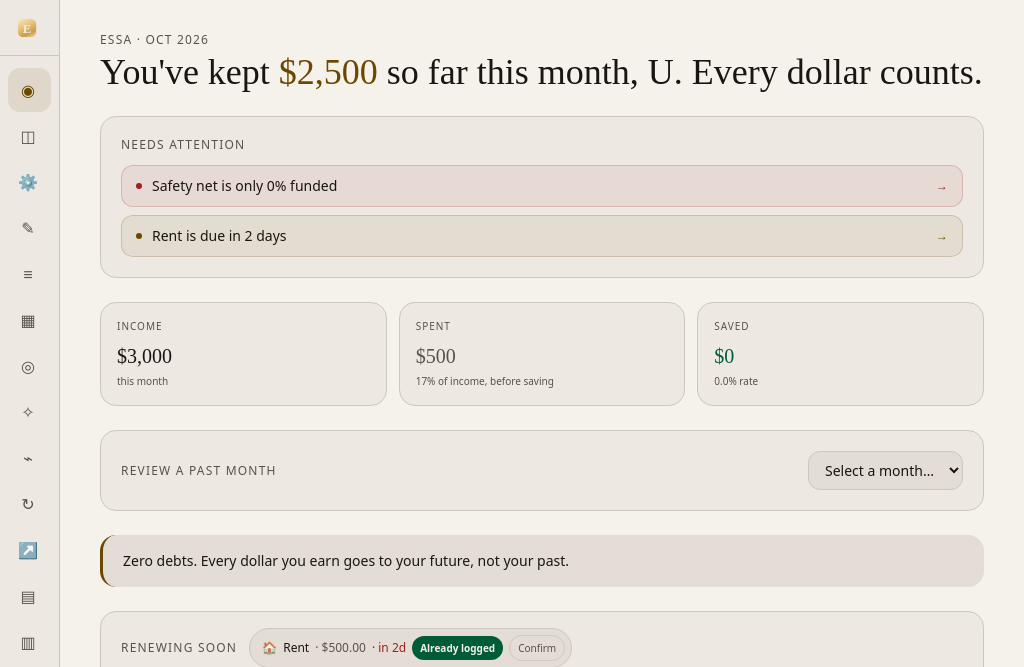
Test: Overview: a Renewing soon chip's Already logged links the row logged by hand
Check: the text "Renewing soon" is shown, box [121,640,237,656]
Click the button "Already logged" at (458, 648), box [412,636,503,660]
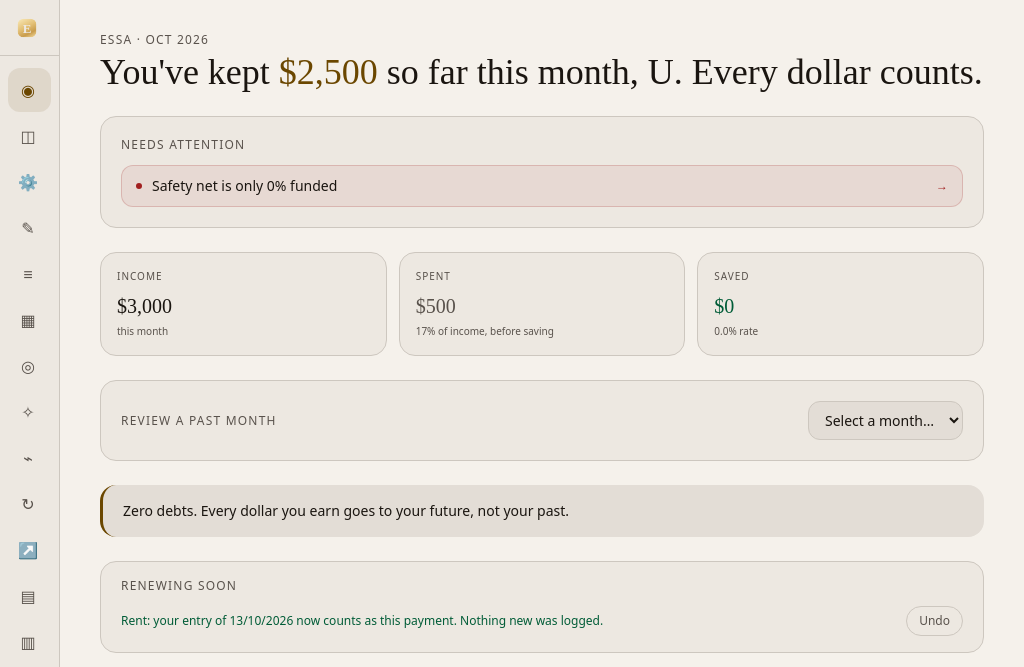
Check: the text "Rent: your entry of 13/10/2026 now counts as this payment. Nothing new was logged." is shown, box [121,612,603,629]
